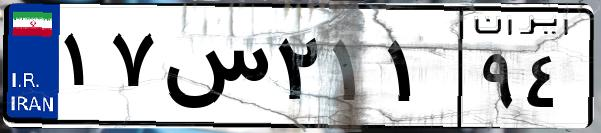1: (385, 28, 445, 110), (330, 28, 385, 110), (57, 26, 110, 100)
2: (270, 28, 330, 110)
4: (525, 38, 570, 115)
7: (110, 28, 158, 98)
9: (475, 38, 525, 113)
س: (158, 20, 270, 120)
